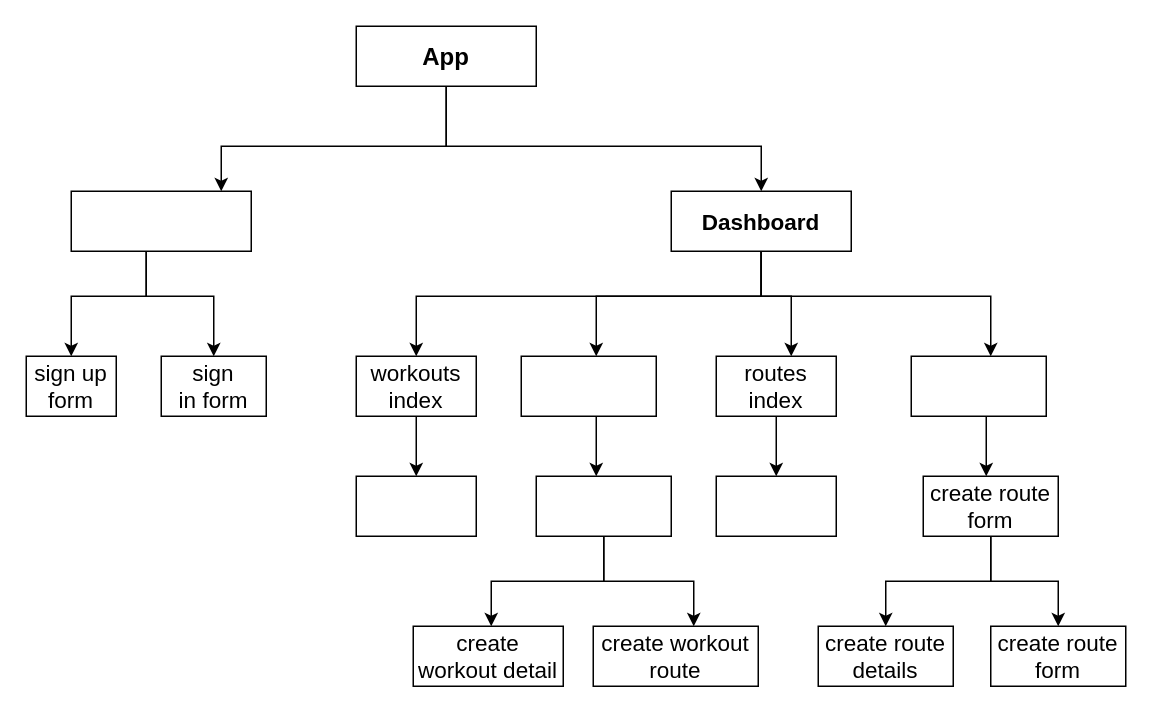
The diagram is 1152 pixels wide and 713 high, and some of its shapes have lost their labels. The shapes that lost their labels are listed below. From the top down, each one's centre as x and y in pixels, then its label:
point 160,220: authentication
point 588,385: create workout
point 978,385: create route
point 415,505: workouts index item
point 603,505: create workout form
point 775,505: routes index item
